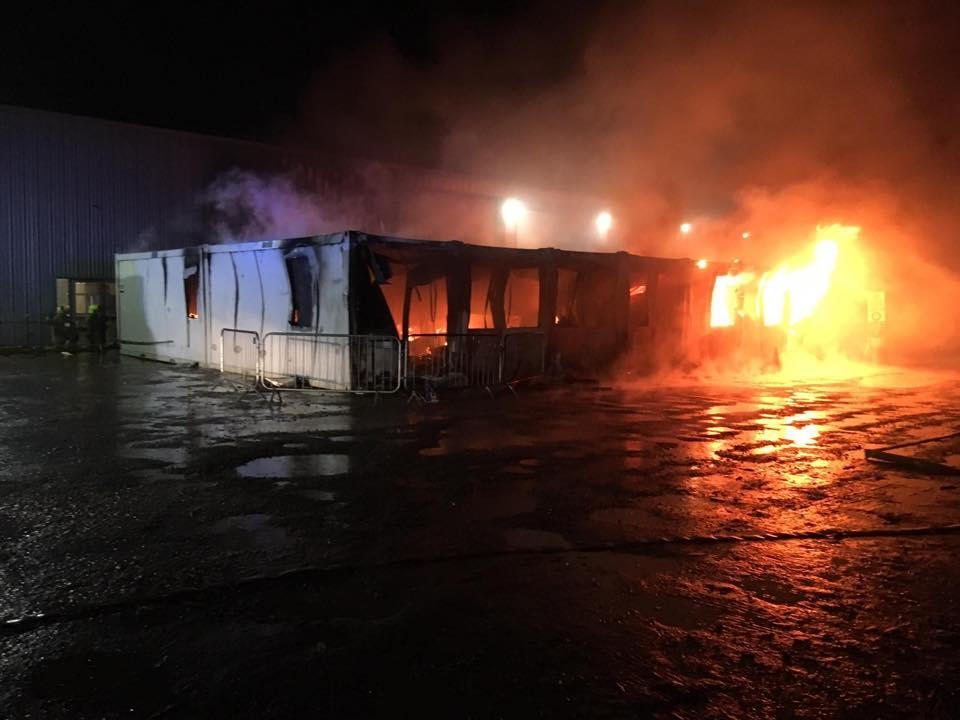Fire: (703, 205, 928, 384)
